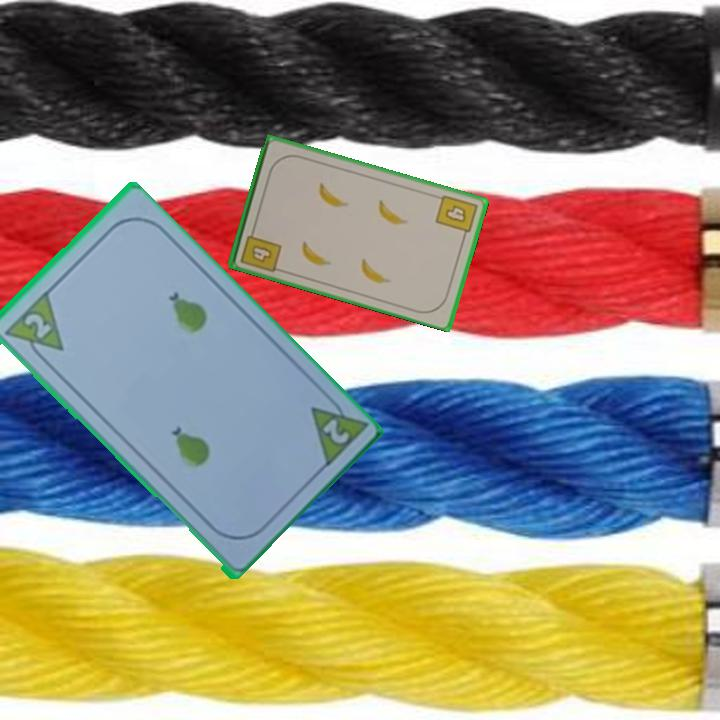2p: (305, 388, 369, 472), (20, 309, 54, 342)
4b: (432, 191, 480, 242), (237, 223, 284, 275)
